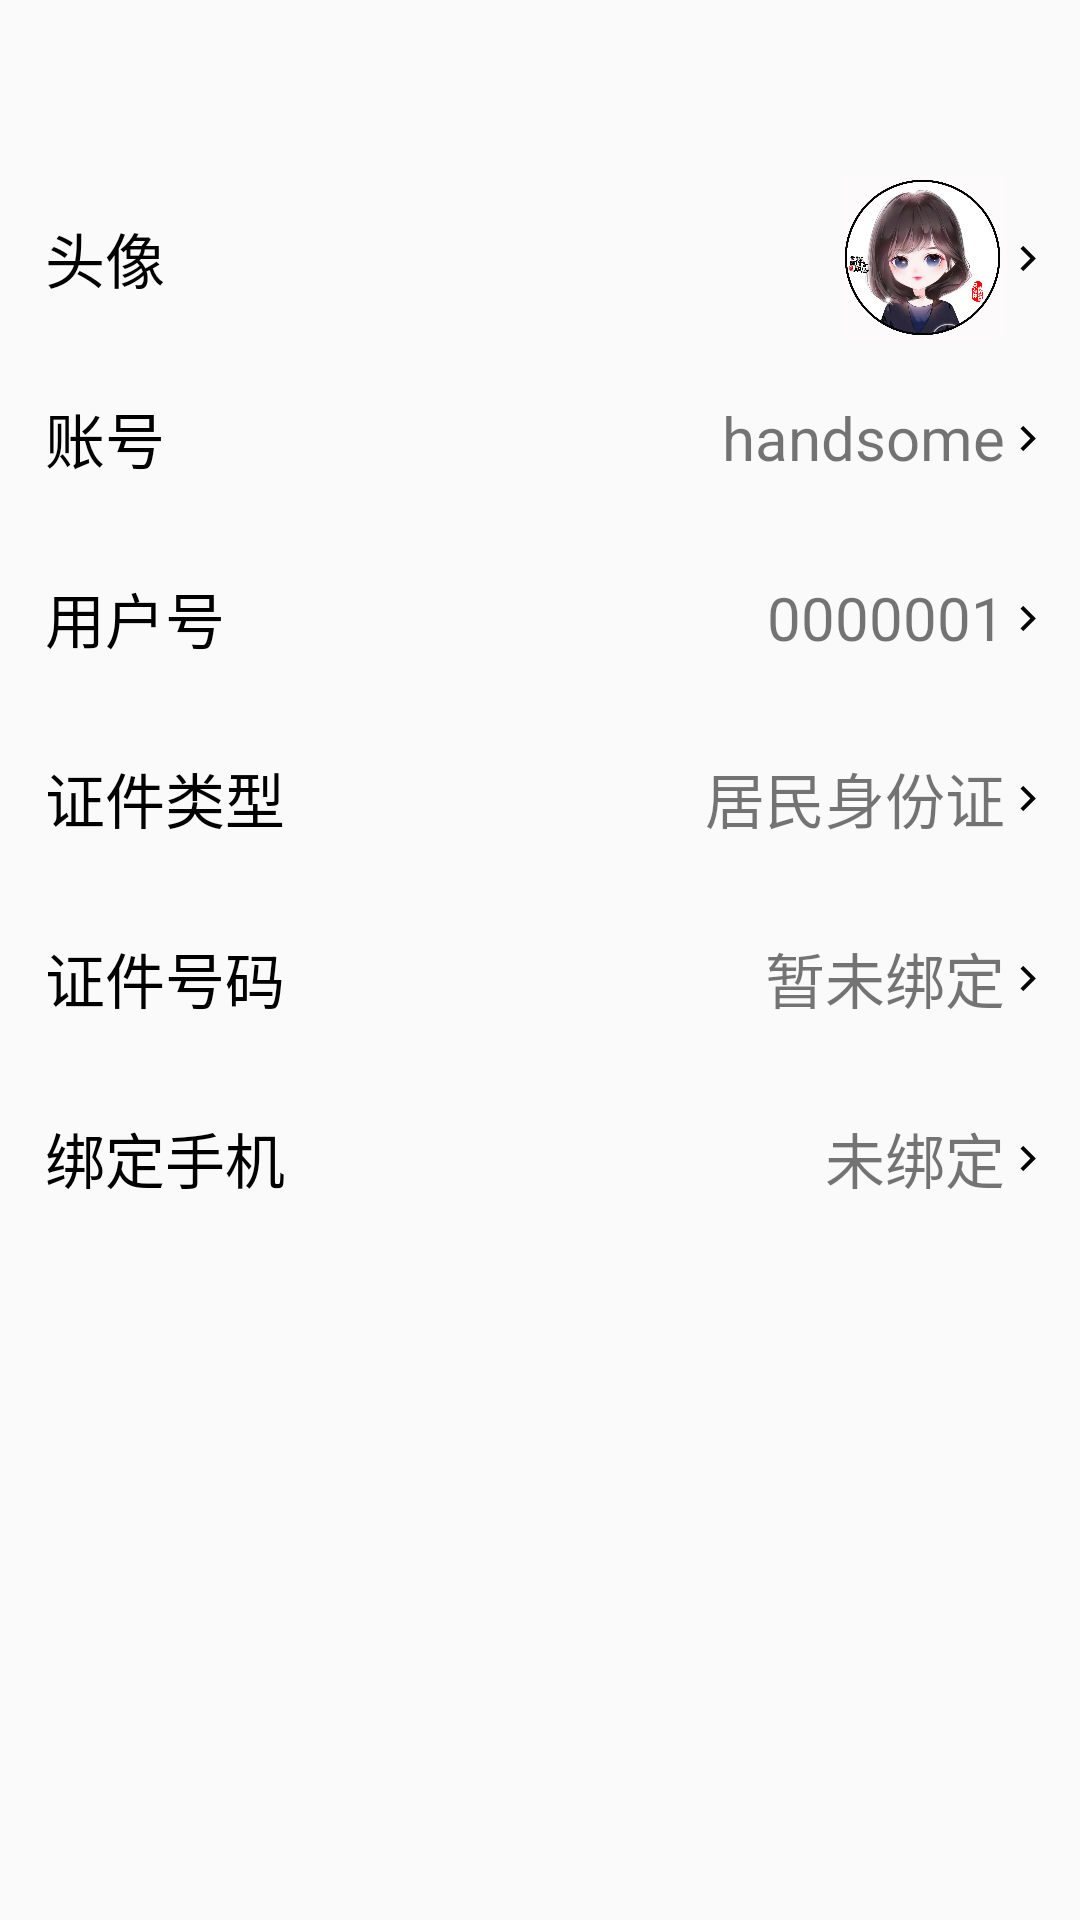

Screen size 1080px x 1920px. Icon name, then its box in pixels as [x1, y1, x2, y2]:
headpicture: [845, 180, 1000, 335]
